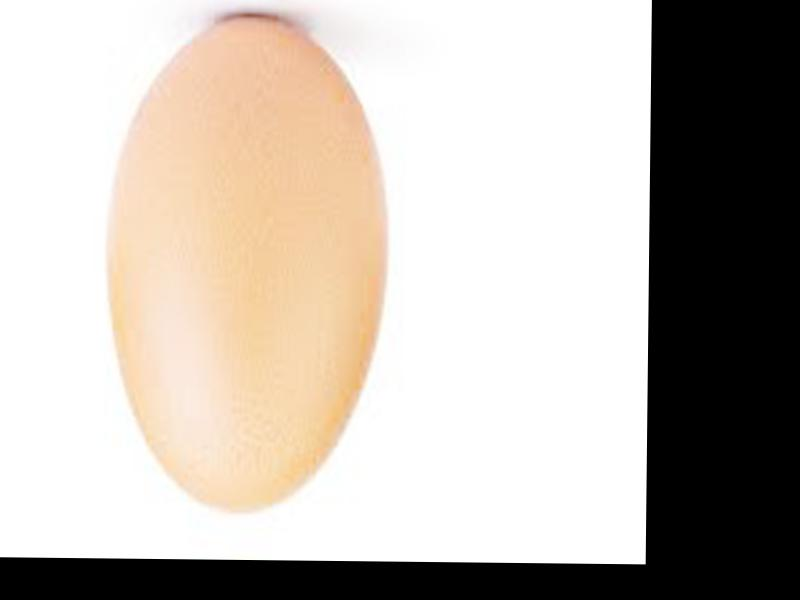Eggs: (108, 15, 388, 514)
